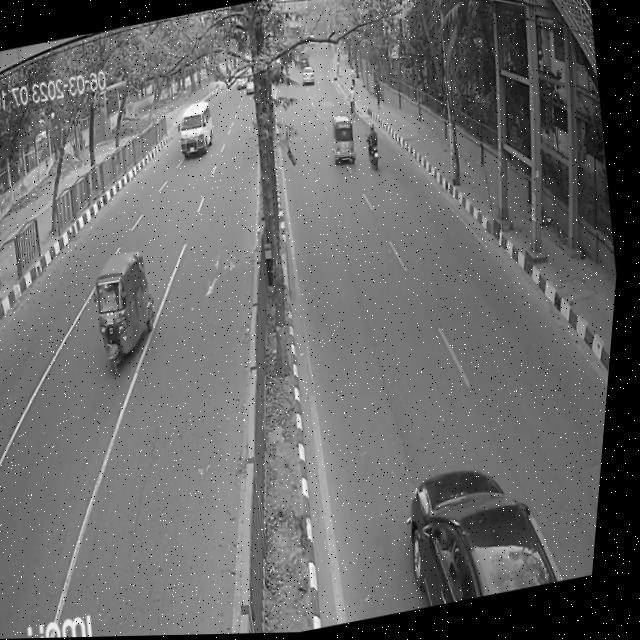cng: (80, 235, 178, 383), (325, 107, 366, 173)
